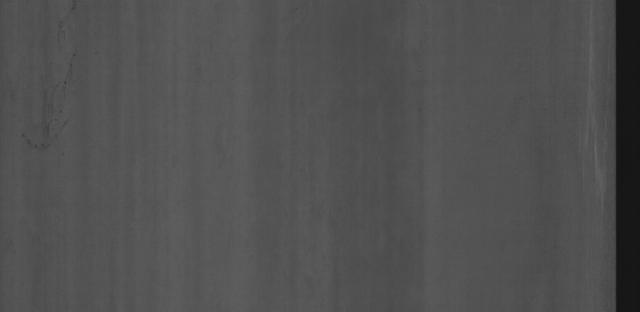water_spot: (18, 50, 82, 154)
